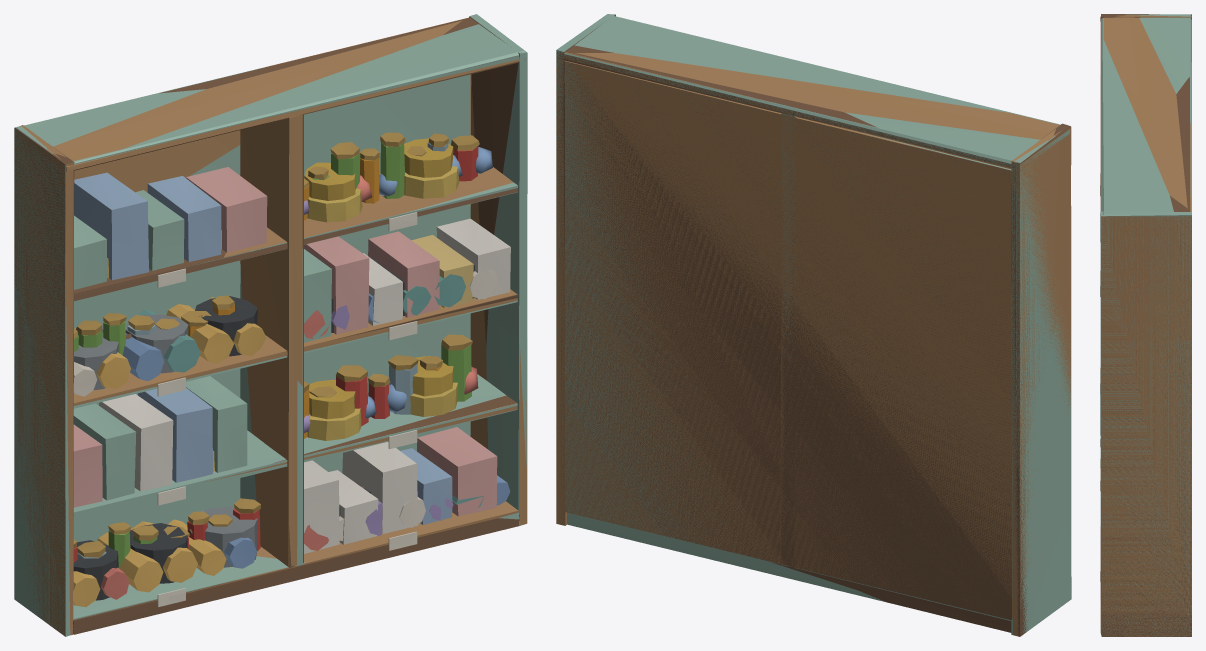
File: store.shelf.glb
3 renders of one model, left to right at view 1: azimuth 30°, elevation 25°; view 2: azimuth 150°, elevation 25°; view 3: azimuth 270°, elevation 25°, orthographic. The views are drawn at different scales.
Visible parts, largest first — view 1: store.shelf.v0.mesh, store.shelf.v1.mesh, store.shelf.v2.mesh; view 2: store.shelf.v0.mesh, store.shelf.v2.mesh, store.shelf.v1.mesh; view 3: store.shelf.v0.mesh, store.shelf.v1.mesh, store.shelf.v2.mesh.
Part boxes in pixels (bbox=[...]): store.shelf.v0.mesh: bbox=[14, 17, 527, 635]; store.shelf.v1.mesh: bbox=[14, 14, 527, 636]; store.shelf.v2.mesh: bbox=[14, 16, 519, 634]; store.shelf.v0.mesh: bbox=[556, 52, 1071, 636]; store.shelf.v2.mesh: bbox=[557, 15, 1070, 636]; store.shelf.v1.mesh: bbox=[556, 14, 1071, 634]; store.shelf.v0.mesh: bbox=[1100, 15, 1191, 636]; store.shelf.v1.mesh: bbox=[1100, 14, 1191, 636]; store.shelf.v2.mesh: bbox=[1100, 14, 1191, 636].
Size of the model in its own units: 2 by 1.95 by 0.385.
